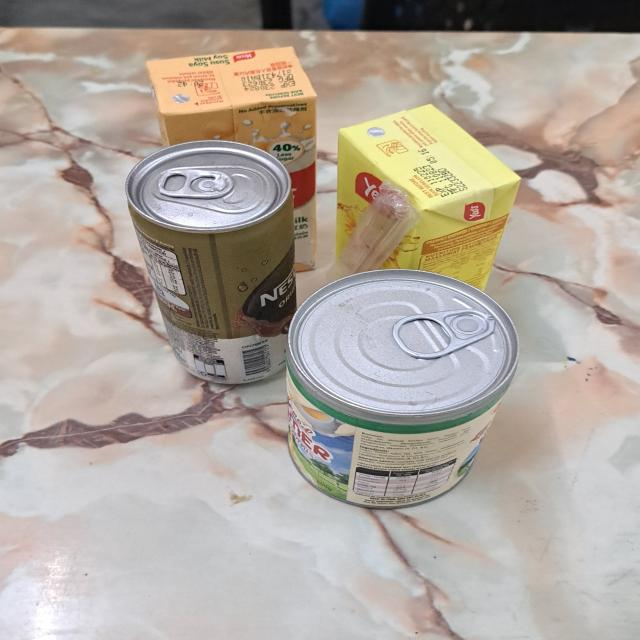can: (287, 266, 518, 507), (122, 136, 302, 384)
drink carton: (144, 43, 318, 277), (337, 100, 522, 294)
pop tab: (392, 306, 498, 359), (161, 167, 236, 200)
